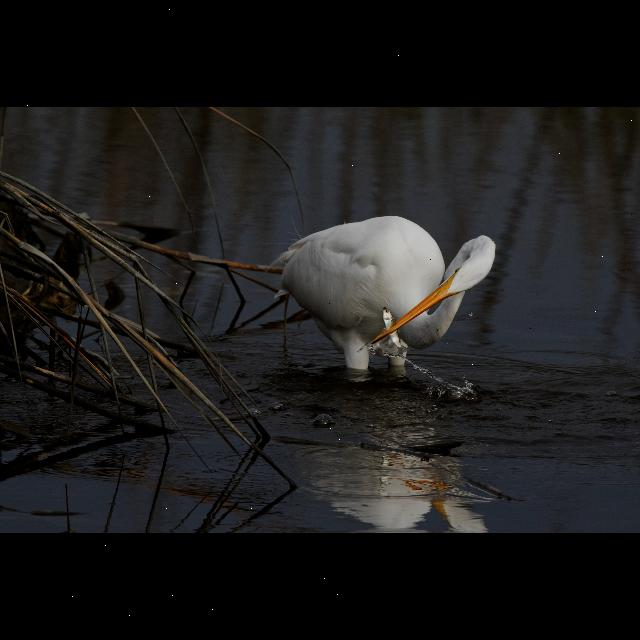egret: (247, 212, 505, 398)
